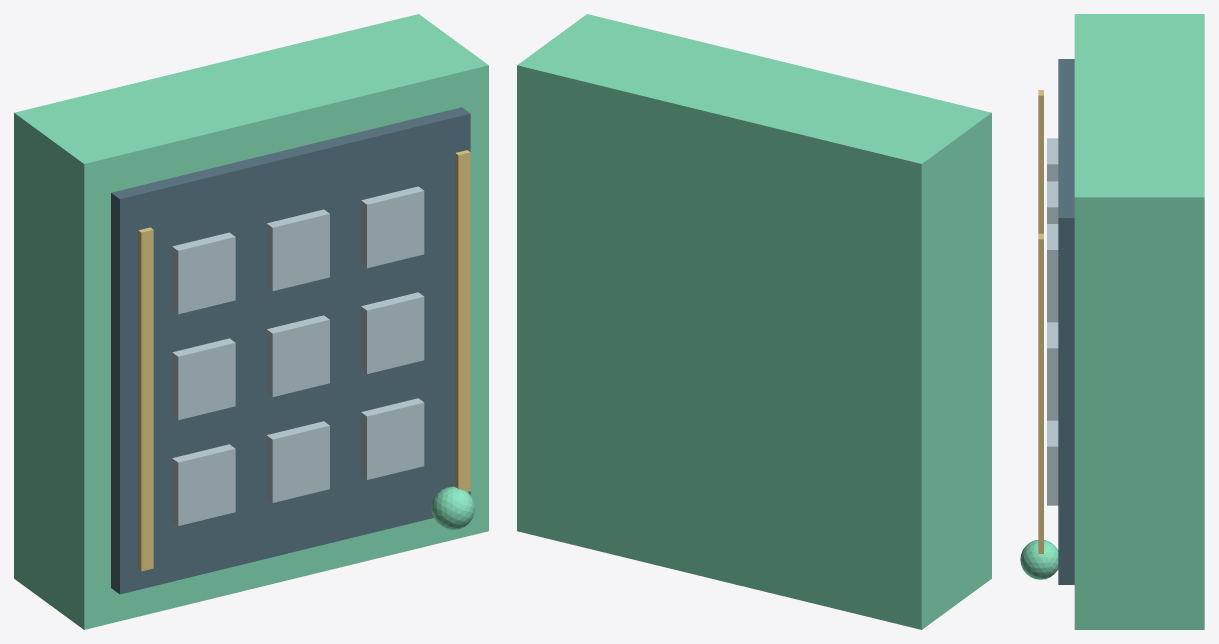
Rendered from module_healthy.glb.
The picture shows the model from 3 angles, left to right: view 1: azimuth 30°, elevation 25°; view 2: azimuth 150°, elevation 25°; view 3: azimuth 270°, elevation 25°; orthographic projection. The views are drawn at different scales.
Visible parts, largest first — view 1: Module chassis, Control substrate, Bus rail -0.235, Bus rail 0.235, Integrated circuit 0 1, Integrated circuit -1 0, Integrated circuit 0 -1, Integrated circuit -1 -1, Integrated circuit 1 -1, Integrated circuit 1 1, Integrated circuit -1 1, Integrated circuit 0 0 (+2 smaller); view 2: Module chassis; view 3: Module chassis, Control substrate, Bus rail 0.235, Service status LED, Integrated circuit 1 -1, Integrated circuit 1 0, Integrated circuit 1 1, Bus rail -0.235, Integrated circuit -1 1, Integrated circuit 0 1.
Boxes of the visible parts, box(x1,y1,x2,y2) form: Module chassis: box(14, 14, 488, 629); Control substrate: box(111, 107, 470, 594); Bus rail -0.235: box(138, 227, 153, 571); Bus rail 0.235: box(455, 150, 470, 491); Integrated circuit 0 1: box(266, 209, 329, 291); Integrated circuit -1 0: box(172, 338, 235, 420); Integrated circuit 0 -1: box(266, 421, 329, 502); Integrated circuit -1 -1: box(172, 444, 235, 525); Integrated circuit 1 -1: box(361, 398, 424, 479); Integrated circuit 1 1: box(361, 186, 424, 268); Integrated circuit -1 1: box(172, 232, 235, 314); Integrated circuit 0 0: box(266, 315, 329, 396); Module chassis: box(517, 14, 991, 629); Module chassis: box(1074, 14, 1204, 629); Control substrate: box(1058, 59, 1074, 584); Bus rail 0.235: box(1038, 233, 1043, 553); Service status LED: box(1020, 540, 1058, 579); Integrated circuit 1 -1: box(1047, 420, 1058, 505); Integrated circuit 1 0: box(1047, 322, 1058, 407); Integrated circuit 1 1: box(1047, 224, 1058, 308); Bus rail -0.235: box(1038, 90, 1043, 233); Integrated circuit -1 1: box(1047, 138, 1058, 181); Integrated circuit 0 1: box(1047, 181, 1058, 223).
Size of the model in its own units: 0.6 by 0.66 by 0.255.
